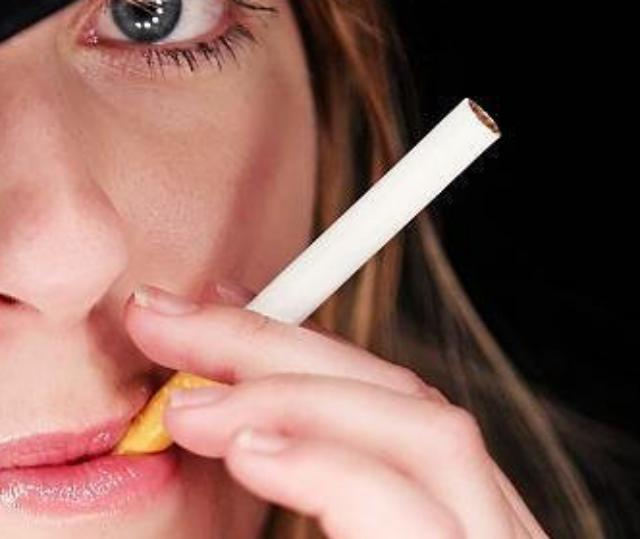Cigarette: (102, 97, 500, 477)
